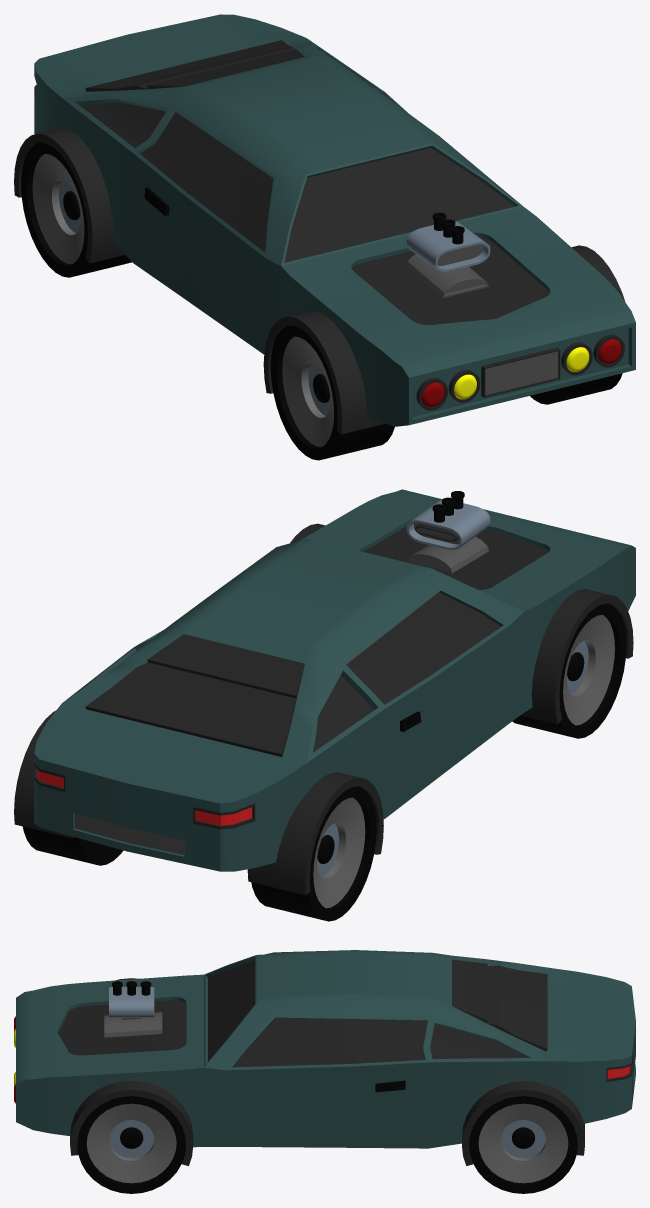
The model's file is Dominik.fbx.
3 renders of one model, top to bottom at view 1: azimuth 30°, elevation 25°; view 2: azimuth 150°, elevation 25°; view 3: azimuth 270°, elevation 25°, orthographic. The views are drawn at different scales.
Visible parts, largest first — view 1: Cube, Cylinder.003, Cylinder.007, Cylinder; view 2: Cube, Cylinder.007, Cylinder.003, Cylinder.005; view 3: Cube, Cylinder.005, Cylinder.
Boxes of the visible parts, x1,y1,x2,y2 form: Cube: (14,14,635,434); Cylinder.003: (270,325,394,460); Cylinder.007: (21,142,131,277); Cylinder: (530,373,622,404); Cube: (14,489,635,895); Cylinder.007: (251,786,376,921); Cylinder.003: (512,603,626,738); Cylinder.005: (22,826,123,865); Cube: (14,950,635,1166); Cylinder.005: (469,1096,577,1193); Cylinder: (77,1096,185,1193).
Bounding box in the file's own units: 141 × 97.97 × 332.
